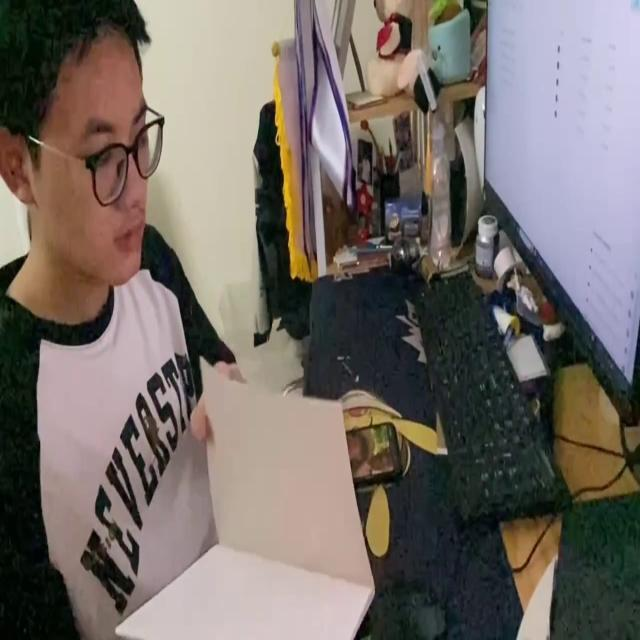book: (117, 350, 376, 640)
laptop: (485, 6, 640, 443)
phone: (343, 416, 404, 488)
student: (0, 0, 253, 640)
